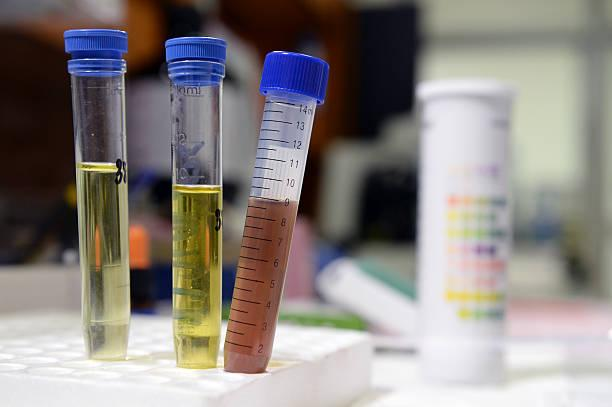Test tube: (229, 37, 326, 380), (57, 25, 145, 364), (157, 32, 222, 369)
